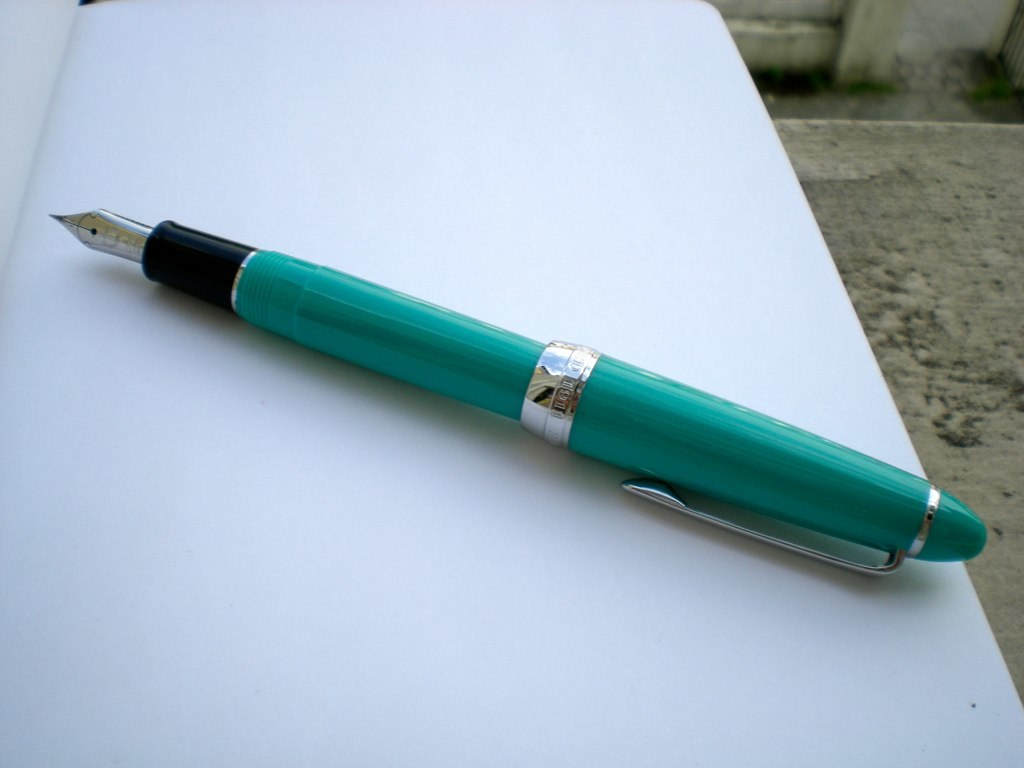Pen: (46, 199, 986, 574)
